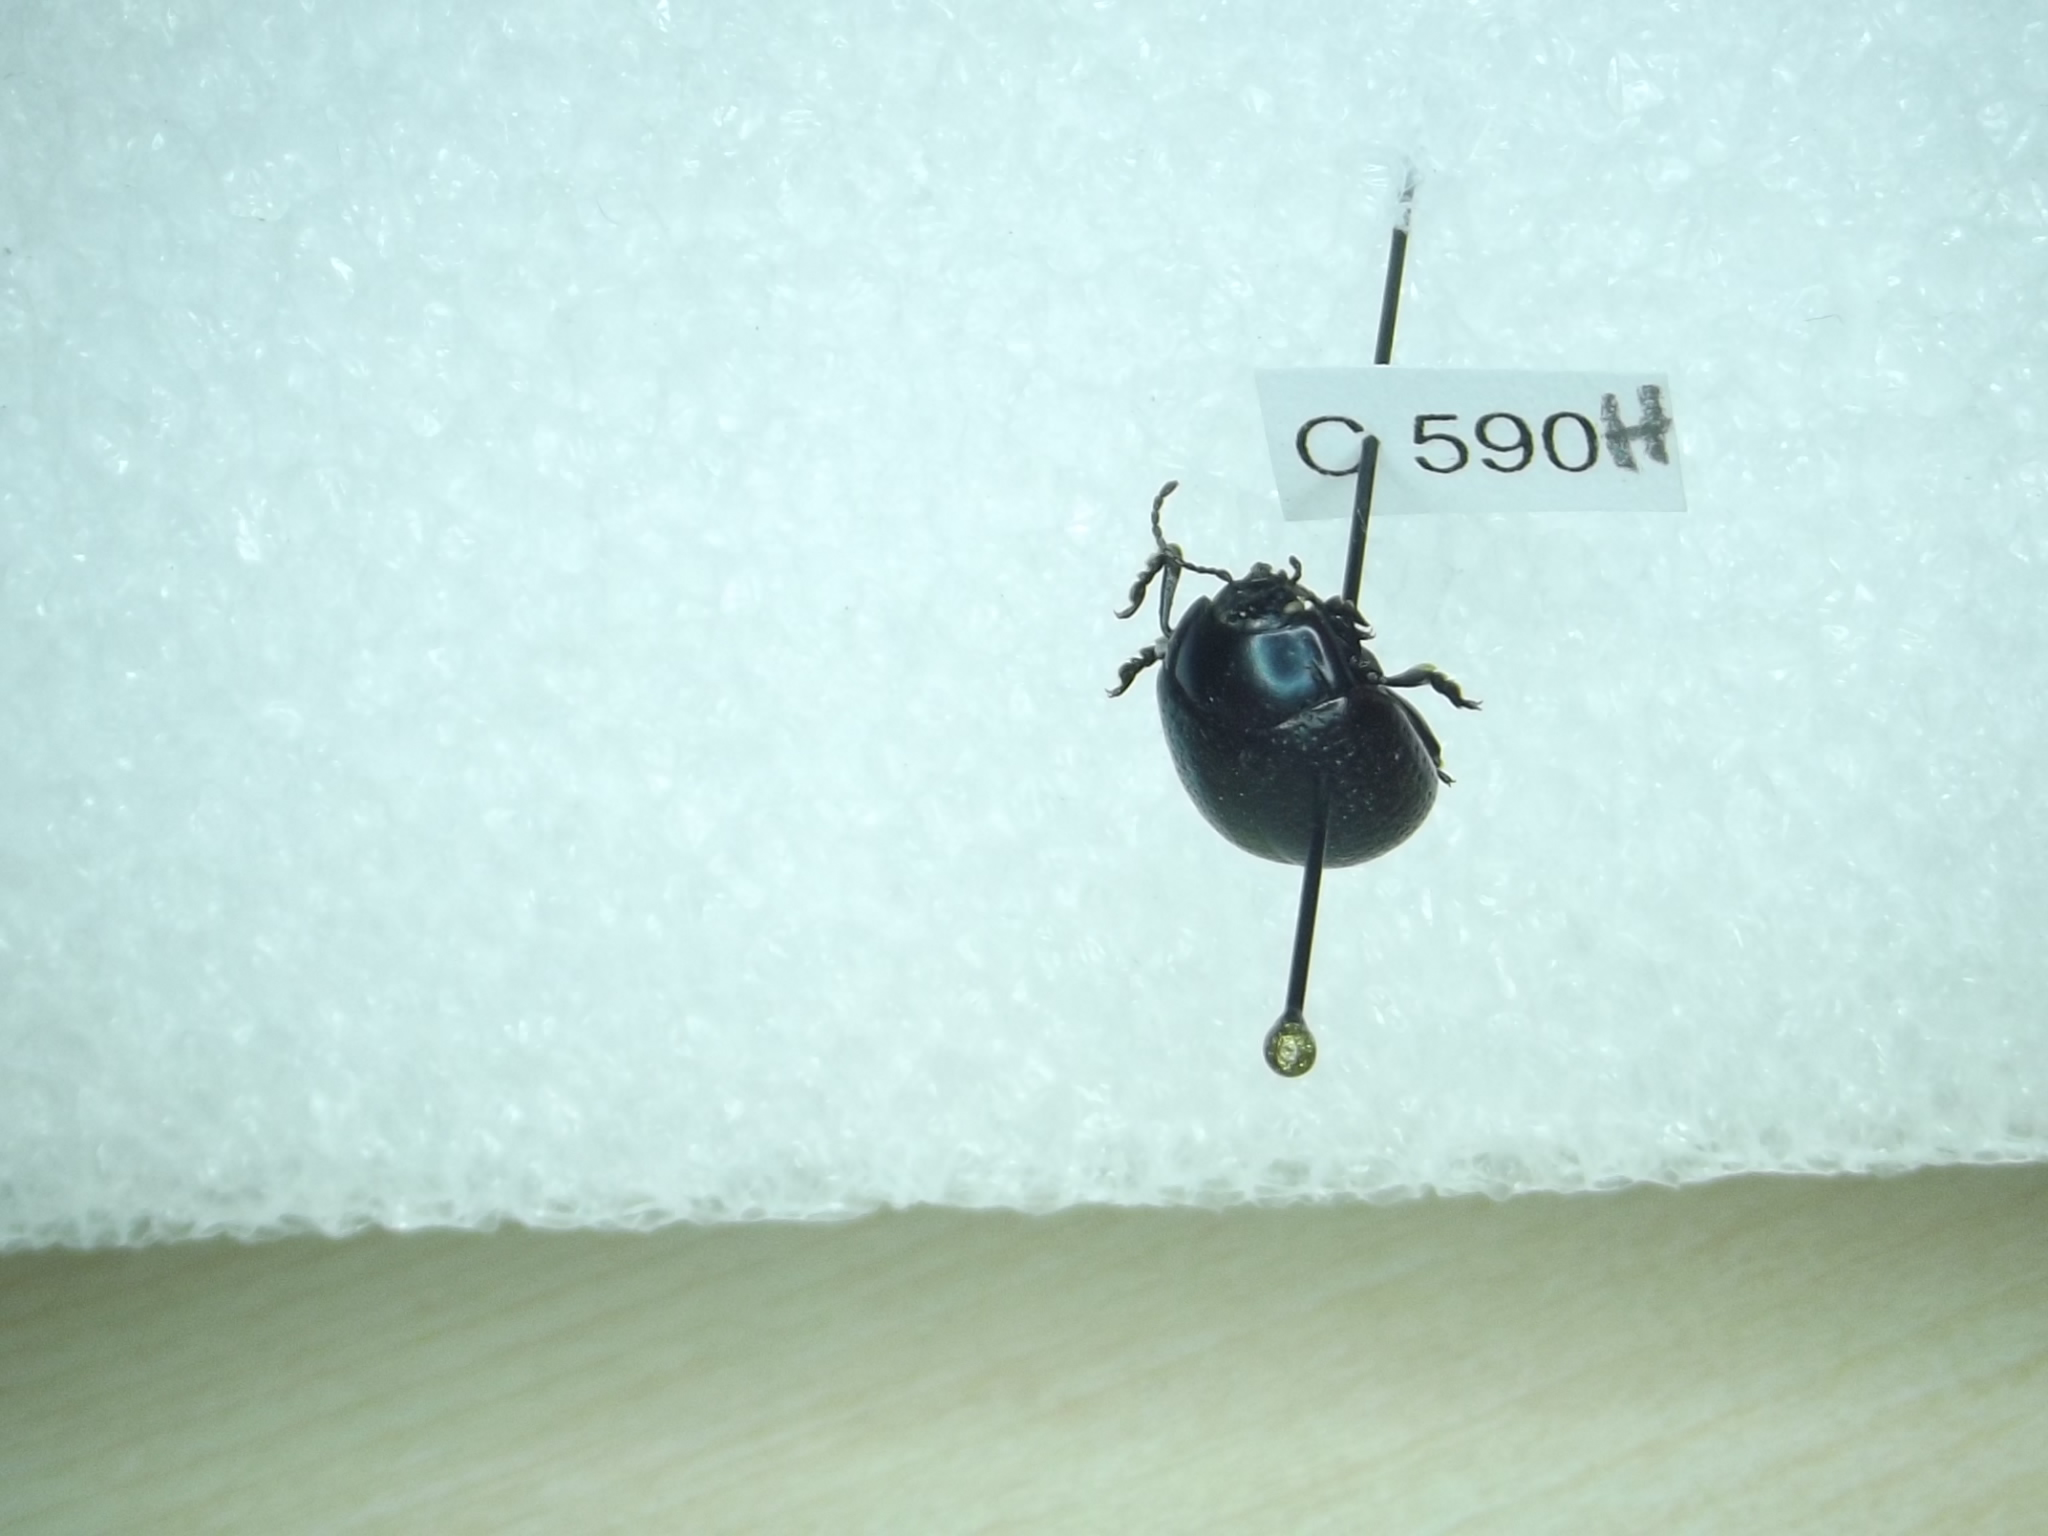Chrysolina_oricalcia: (1105, 470, 1477, 858)
